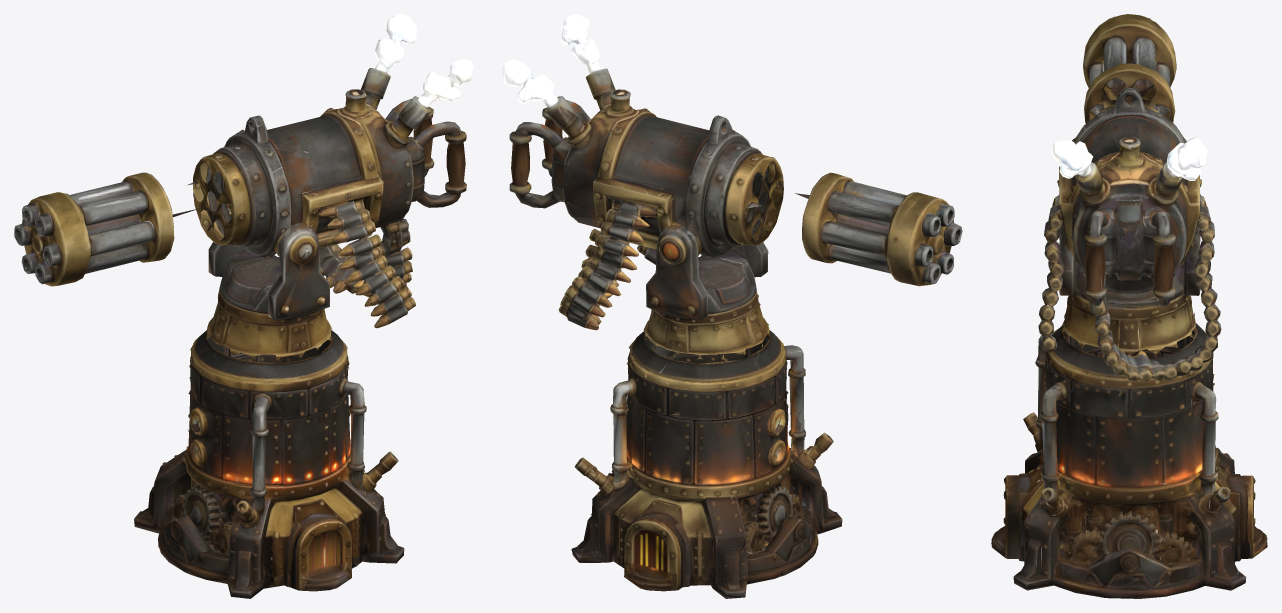
Rendered from gatling_meshy_v01_prepared.fbx.
3 renders of one model, left to right at view 1: azimuth 30°, elevation 25°; view 2: azimuth 150°, elevation 25°; view 3: azimuth 270°, elevation 25°, orthographic. The views are drawn at different scales.
Visible parts, largest first — view 1: Head, Base, Barrel; view 2: Base, Head, Barrel; view 3: Base, Head, Barrel.
Part boxes in pixels (x1,y1,x2,y2): Head: (187, 14, 473, 360); Base: (134, 330, 404, 598); Barrel: (14, 172, 200, 286); Base: (571, 330, 842, 598); Head: (502, 14, 783, 359); Barrel: (795, 172, 962, 286); Base: (991, 323, 1267, 598); Head: (1038, 88, 1221, 381); Barrel: (1083, 14, 1176, 123).
Size of the model in its own units: 118 by 125 by 63.87.
